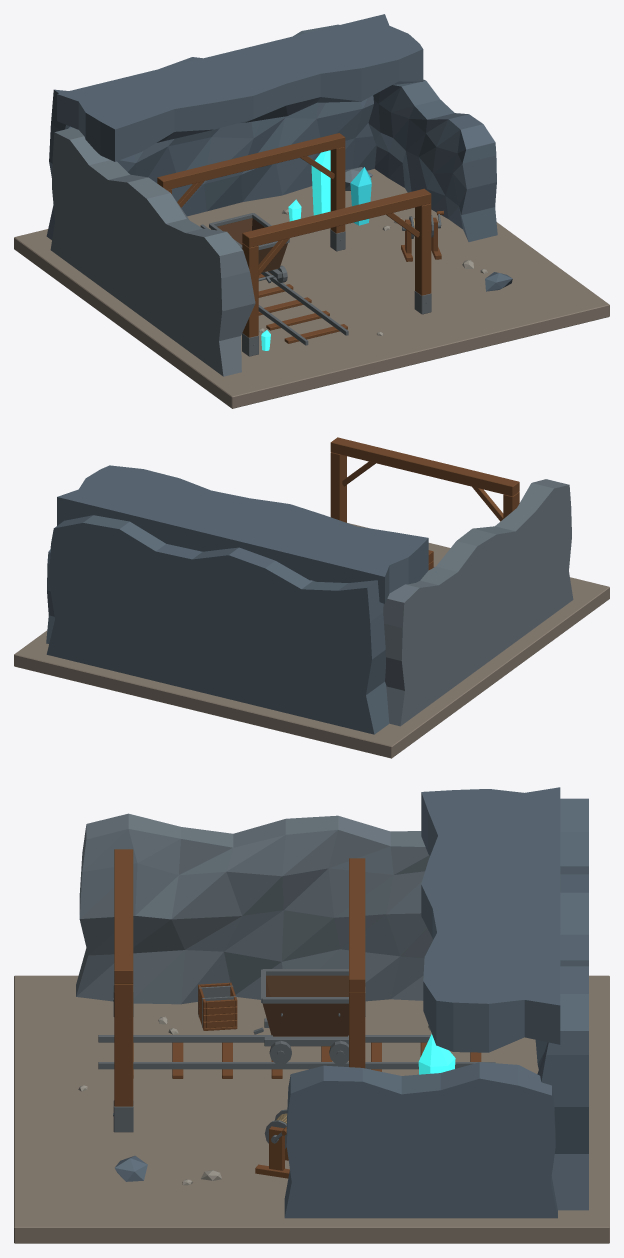
3 renders of one model, top to bottom at view 1: azimuth 30°, elevation 25°; view 2: azimuth 150°, elevation 25°; view 3: azimuth 270°, elevation 25°, orthographic. The views are drawn at different scales.
Parts seen in each view (by area): view 1: floor__ground, left_wall__faceted_strata, rear_rock_canopy__faceted_strata, back_wall__faceted_strata, right_wall__faceted_strata, entrance_support__lintel, inner_support__lintel, entrance_support, inner_support, abandoned_cart, focal_crystal__six_sided_growth, entrance_support__post_-1 (+2 smaller); view 2: back_wall__faceted_strata, left_wall__faceted_strata, rear_rock_canopy__faceted_strata, floor__ground, entrance_support__lintel, entrance_support; view 3: floor__ground, left_wall__faceted_strata, right_wall__faceted_strata, rear_rock_canopy__faceted_strata, back_wall__faceted_strata, abandoned_cart, entrance_support, entrance_support__lintel, inner_support__lintel, rail_right__beam, abandoned_cart__side_plate_-1, rail_left__beam (+5 smaller).
Part boxes in pixels (left/top/right/bottom): floor__ground: left=14, top=169, right=609, bottom=408; left_wall__faceted_strata: left=50, top=127, right=255, bottom=376; rear_rock_canopy__faceted_strata: left=57, top=14, right=423, bottom=161; back_wall__faceted_strata: left=46, top=24, right=376, bottom=239; right_wall__faceted_strata: left=368, top=79, right=497, bottom=241; entrance_support__lintel: left=242, top=188, right=431, bottom=247; inner_support__lintel: left=157, top=133, right=345, bottom=189; entrance_support: left=386, top=203, right=431, bottom=314; inner_support: left=300, top=147, right=345, bottom=251; abandoned_cart: left=209, top=213, right=289, bottom=282; focal_crystal__six_sided_growth: left=311, top=150, right=330, bottom=215; entrance_support__post_-1: left=242, top=243, right=258, bottom=337; back_wall__faceted_strata: left=46, top=515, right=389, bottom=734; left_wall__faceted_strata: left=383, top=479, right=573, bottom=726; rear_rock_canopy__faceted_strata: left=57, top=465, right=428, bottom=603; floor__ground: left=14, top=523, right=609, bottom=758; entrance_support__lintel: left=330, top=437, right=519, bottom=496; entrance_support: left=330, top=452, right=375, bottom=522; floor__ground: left=14, top=975, right=609, bottom=1243; left_wall__faceted_strata: left=76, top=813, right=432, bottom=1004; right_wall__faceted_strata: left=284, top=1062, right=557, bottom=1218; rear_rock_canopy__faceted_strata: left=421, top=787, right=560, bottom=1052; back_wall__faceted_strata: left=535, top=798, right=588, bottom=1210; abandoned_cart: left=262, top=997, right=348, bottom=1064; entrance_support: left=113, top=984, right=133, bottom=1132; entrance_support__lintel: left=114, top=849, right=133, bottom=983; inner_support__lintel: left=349, top=858, right=365, bottom=992; rail_right__beam: left=98, top=1062, right=495, bottom=1069; abandoned_cart__side_plate_-1: left=266, top=975, right=348, bottom=996; rail_left__beam: left=98, top=1035, right=430, bottom=1042.
Bounding box in the file's own units: 12 × 4.93 × 12.
